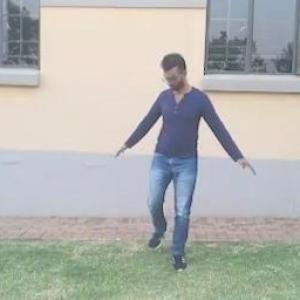land: (94, 40, 251, 274)
